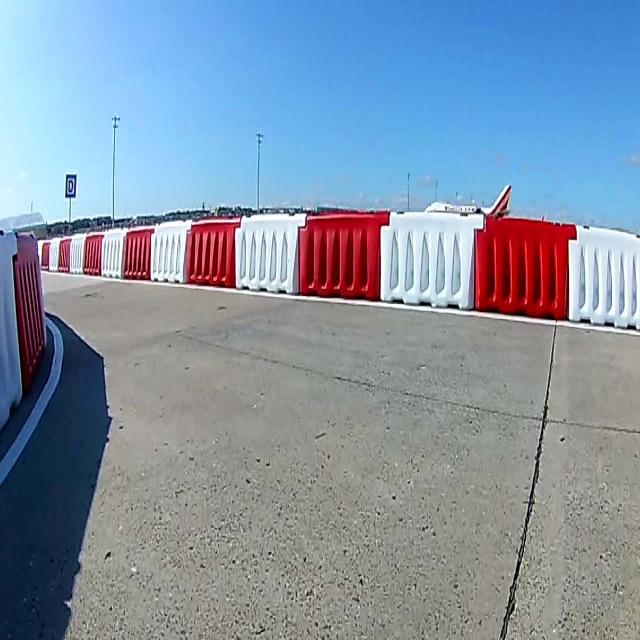durak: (66, 174, 76, 198)
